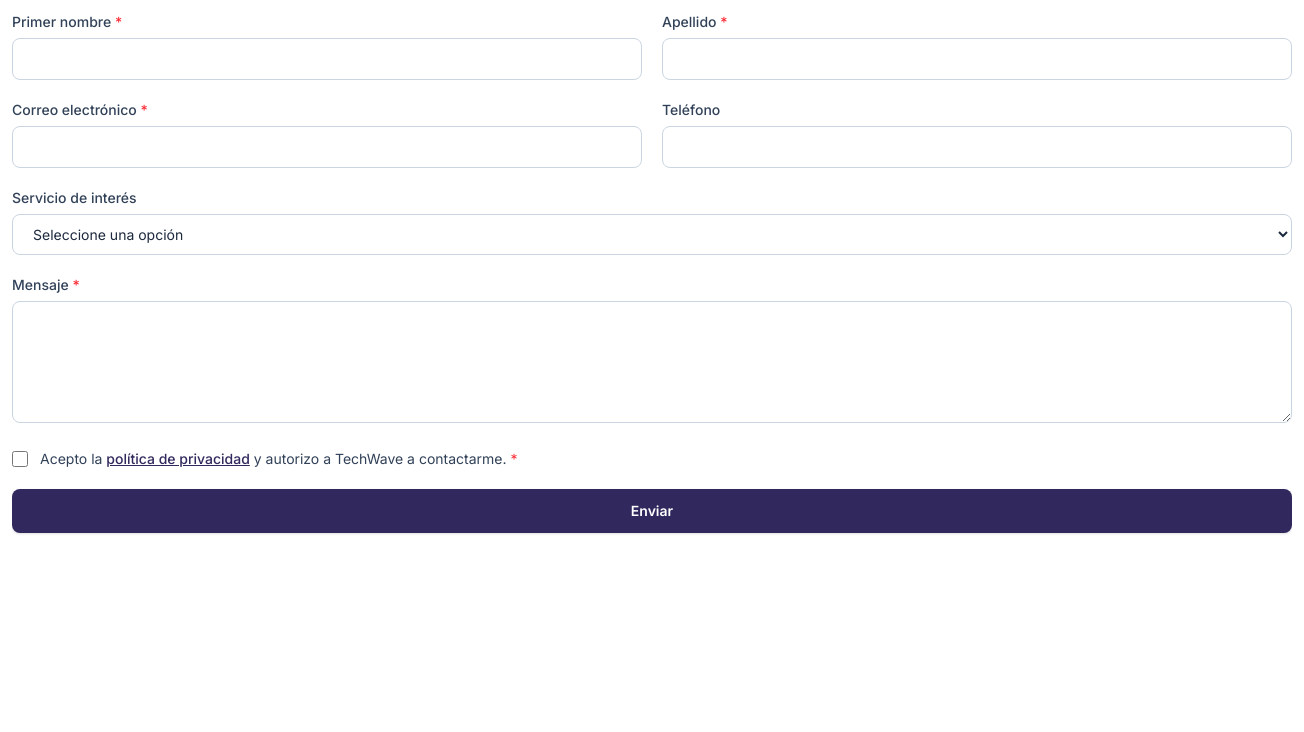
Test: ContactForm › muestra errores de validación al enviar vacío
This screenshot has width=1304, height=732.
Click the button "Enviar".
click(652, 511)  # box [12,489,1292,533]
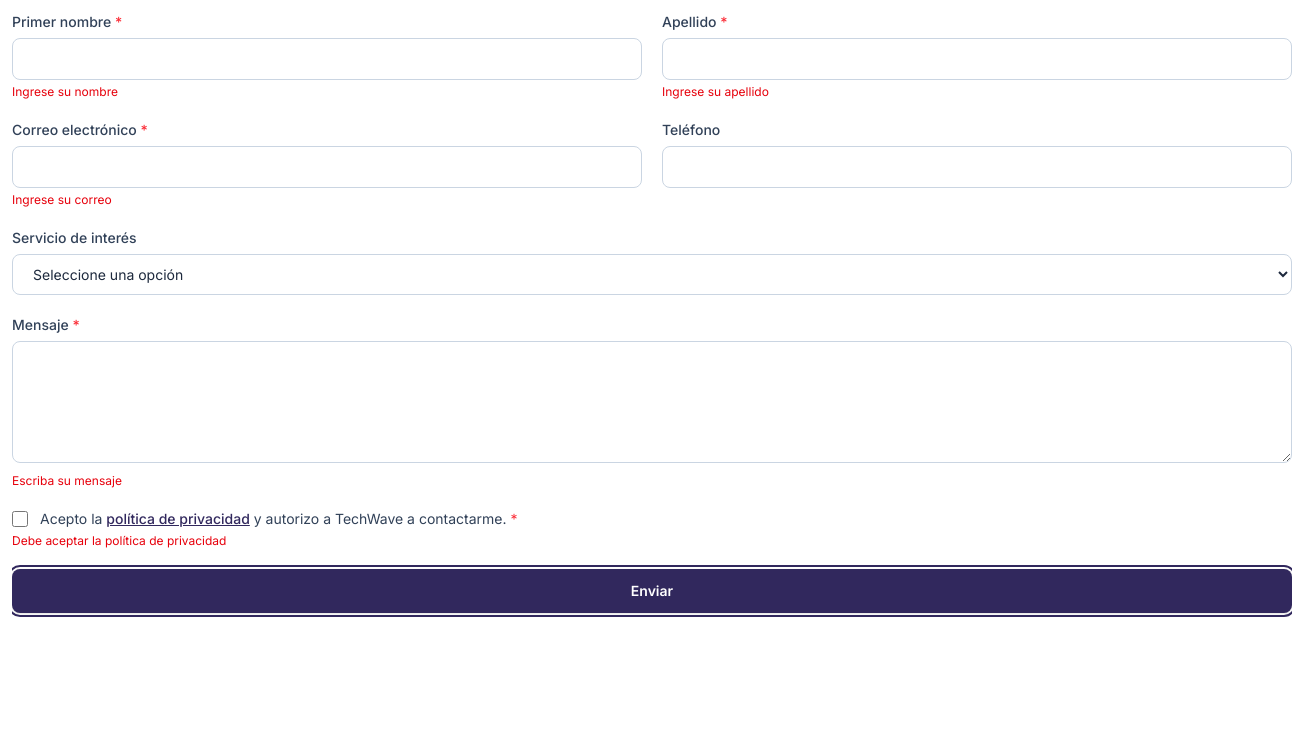
Check: the text "Ingrese su nombre" is shown, box [12,84,118,99]
Check: the text "Ingrese su apellido" is shown, box [662,84,769,99]
Check: the text "Ingrese su correo" is shown, box [12,192,112,207]
